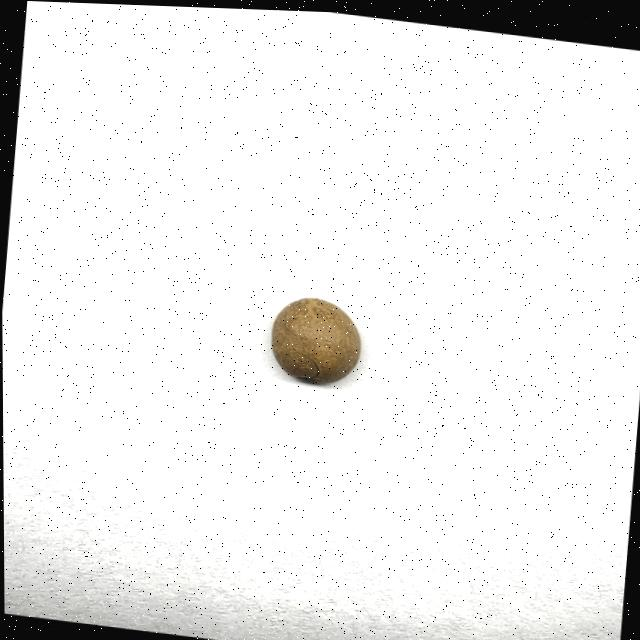Quaker: (266, 289, 364, 386)
